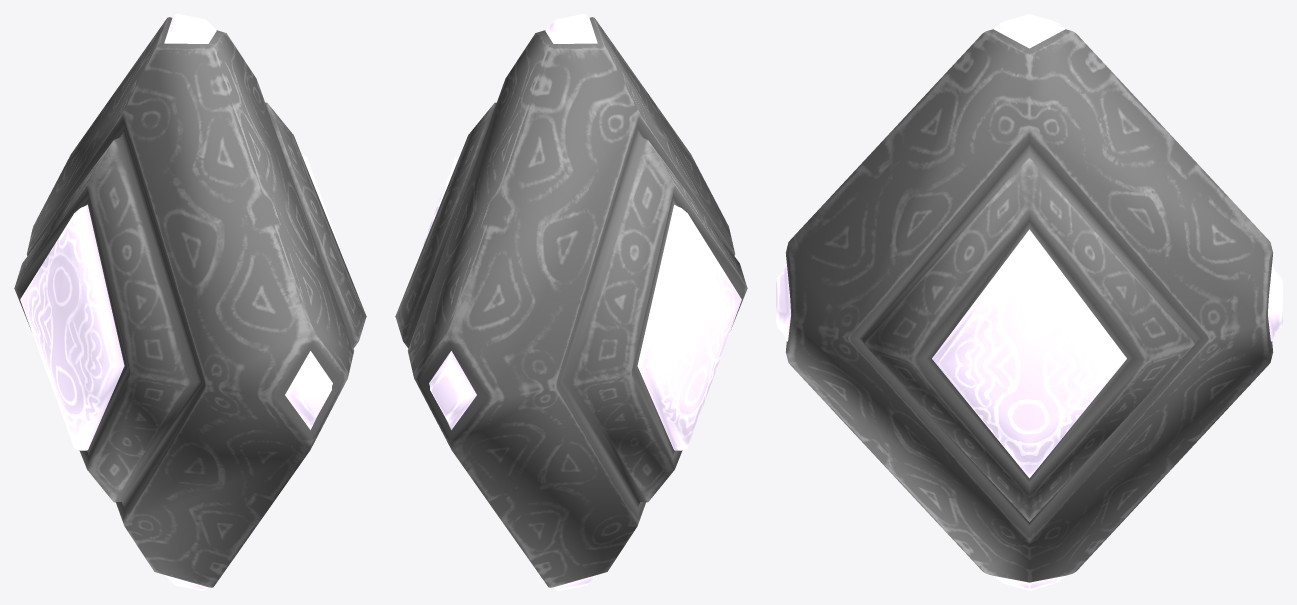
Rendered from dupli gem.fbx.
3 renders of one model, left to right at view 1: azimuth 30°, elevation 25°; view 2: azimuth 150°, elevation 25°; view 3: azimuth 270°, elevation 25°, orthographic.
Visible parts, largest first — view 1: dupli gem; view 2: dupli gem; view 3: dupli gem.
Part boxes in pixels (bbox=[...]): dupli gem: bbox=[14, 14, 366, 590]; dupli gem: bbox=[395, 14, 747, 590]; dupli gem: bbox=[776, 14, 1282, 590].
Bounding box in the file's own units: 0.00739 × 0.0152 × 0.0123.
